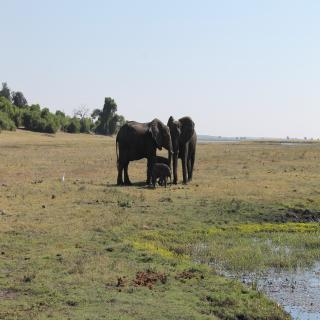Elephant: (111, 118, 173, 190), (166, 110, 200, 186), (149, 157, 178, 189)
